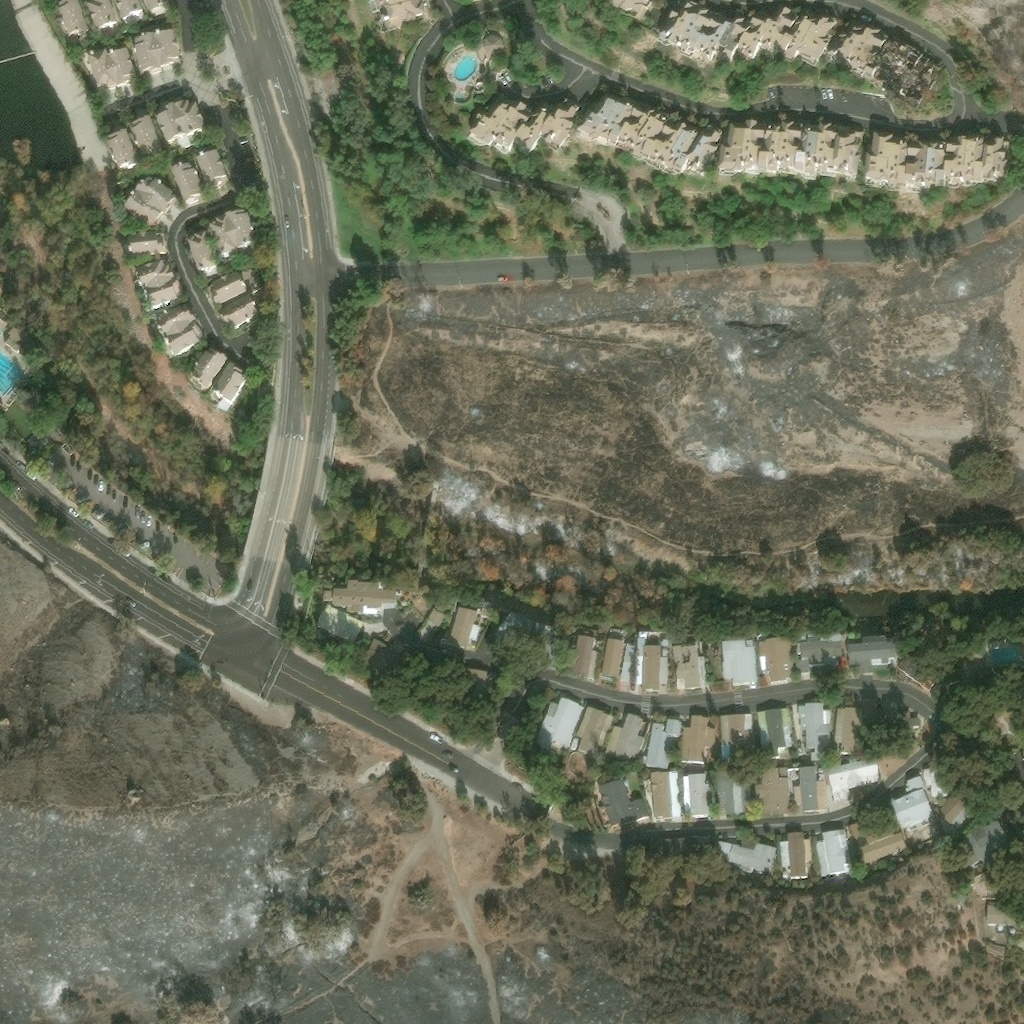0 no-damage: (869, 40, 946, 112), (654, 0, 734, 68), (461, 92, 536, 164), (516, 95, 586, 168), (943, 811, 1014, 878), (822, 18, 892, 82), (657, 122, 721, 191), (779, 11, 843, 71), (574, 89, 638, 149), (799, 129, 864, 187), (629, 110, 685, 172), (123, 175, 178, 232), (753, 126, 807, 183), (715, 123, 768, 180), (206, 208, 260, 263), (720, 14, 776, 67), (155, 303, 206, 361), (824, 762, 882, 812), (333, 580, 400, 619), (713, 841, 780, 880), (537, 697, 584, 752), (604, 712, 651, 767), (757, 8, 800, 67), (863, 133, 906, 191), (156, 101, 209, 148), (600, 780, 651, 827), (612, 103, 656, 157), (372, 0, 432, 39), (645, 716, 685, 773), (314, 606, 364, 651), (846, 636, 903, 675), (88, 48, 138, 92), (133, 32, 181, 77), (793, 704, 832, 759), (575, 707, 616, 759), (754, 709, 795, 761), (936, 786, 982, 832), (358, 640, 405, 685), (713, 770, 754, 821), (206, 364, 246, 416), (889, 791, 935, 836), (789, 767, 830, 817), (758, 639, 798, 690), (753, 768, 793, 819), (186, 349, 229, 396), (905, 140, 945, 190), (945, 139, 984, 190), (719, 713, 758, 763), (682, 717, 721, 766), (722, 642, 760, 692), (798, 637, 845, 677), (170, 162, 209, 210), (517, 621, 556, 669), (493, 612, 534, 657), (194, 150, 231, 196), (184, 233, 220, 280), (816, 830, 851, 878), (859, 834, 908, 868), (133, 262, 178, 298), (567, 635, 601, 682), (53, 0, 91, 42), (455, 669, 492, 712), (983, 134, 1013, 187), (105, 131, 141, 175), (207, 273, 249, 310), (448, 609, 481, 656), (833, 709, 865, 757), (130, 117, 164, 161), (220, 295, 260, 332), (781, 834, 813, 880), (684, 774, 715, 820), (598, 0, 655, 24), (83, 0, 120, 36), (673, 647, 700, 695), (651, 774, 680, 818), (145, 282, 182, 315), (126, 236, 168, 262), (600, 639, 626, 679), (985, 902, 1023, 928), (643, 646, 662, 697), (112, 0, 145, 26), (634, 632, 648, 688), (923, 771, 947, 801), (620, 645, 636, 687), (660, 640, 671, 698), (143, 0, 170, 20), (484, 36, 505, 61), (698, 658, 710, 697), (5, 328, 22, 355), (427, 609, 446, 630), (903, 777, 923, 796), (847, 825, 863, 846), (908, 720, 921, 731), (571, 740, 580, 754)
